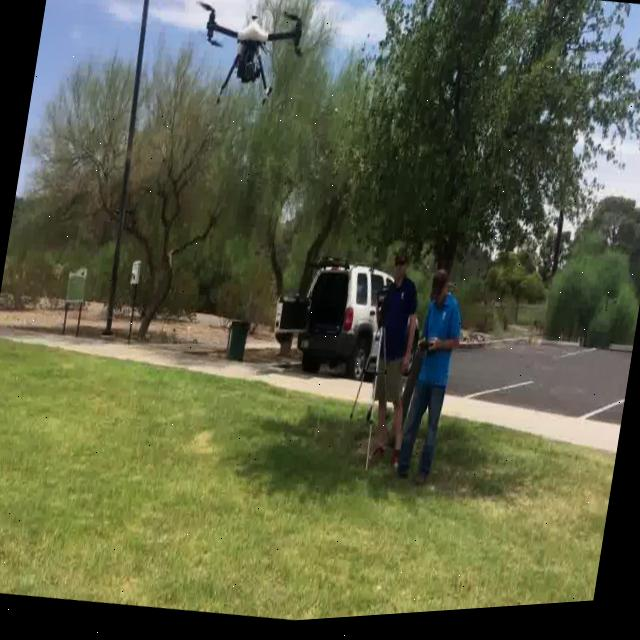drone: (178, 0, 321, 156)
